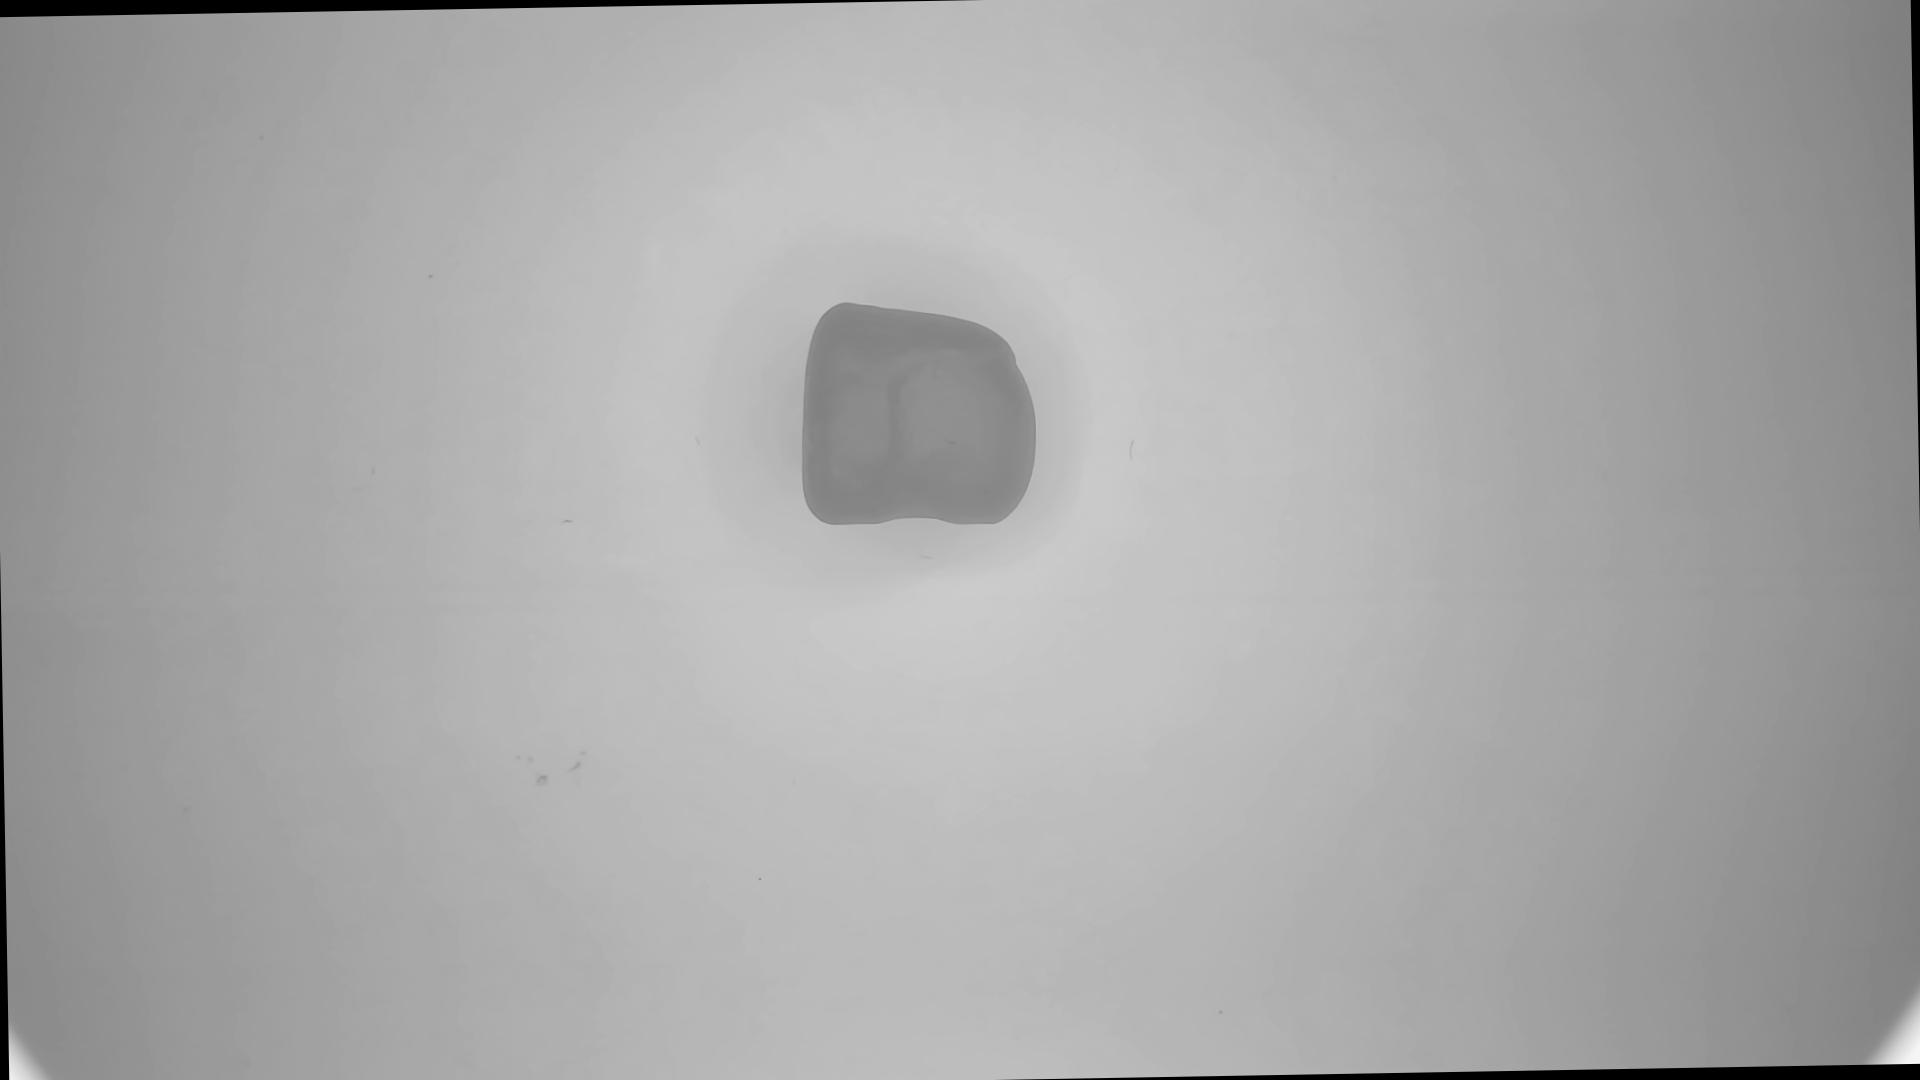abnormal: (800, 298, 1042, 531)
